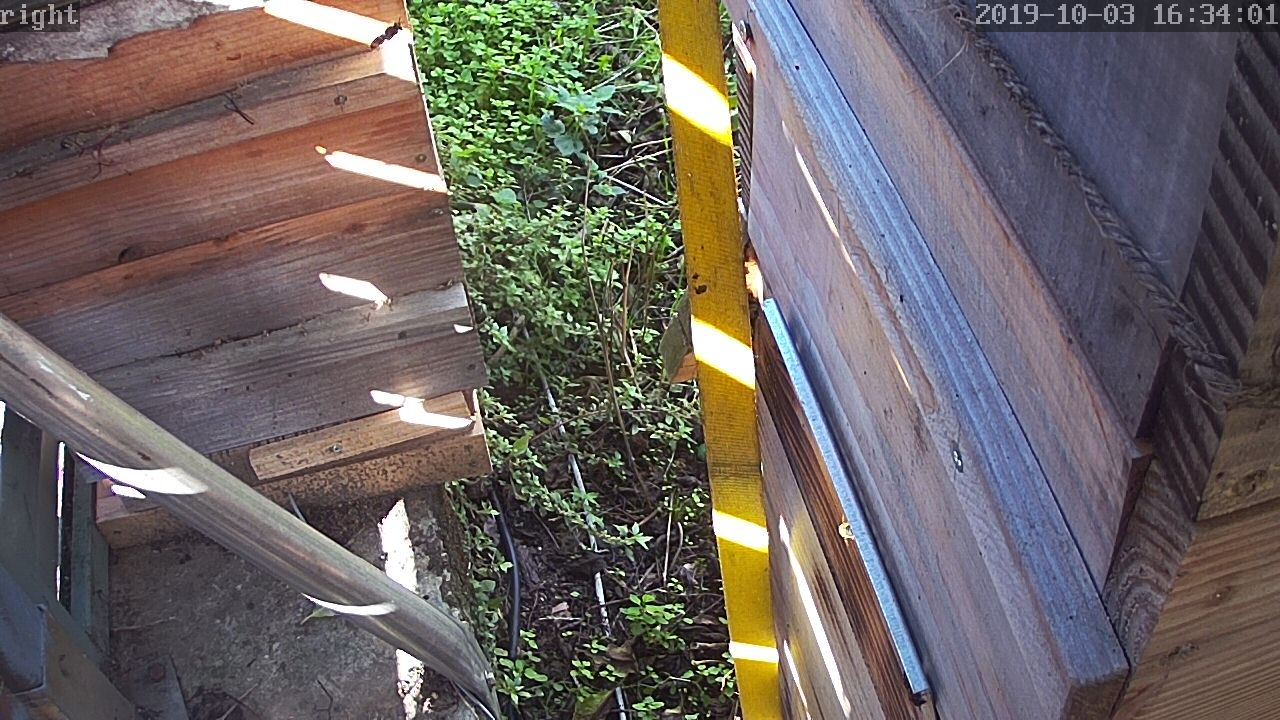bee: (899, 678, 928, 715), (832, 516, 859, 546)
hornet: (367, 20, 404, 53)
